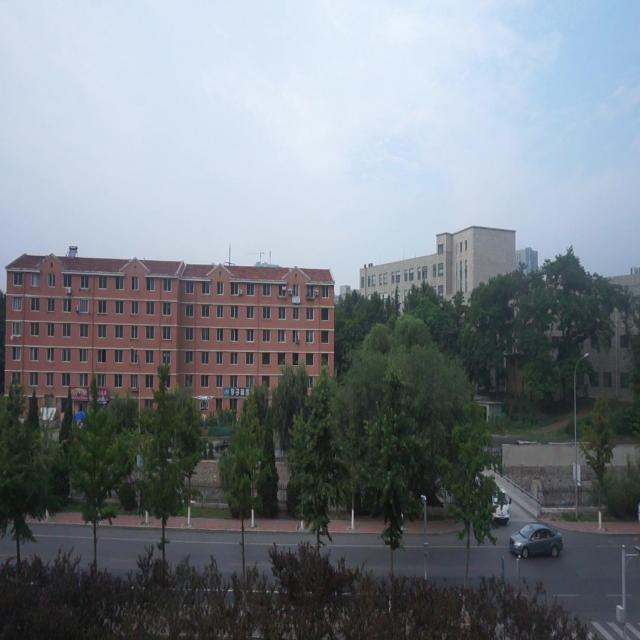UAV: (192, 396, 214, 410)
